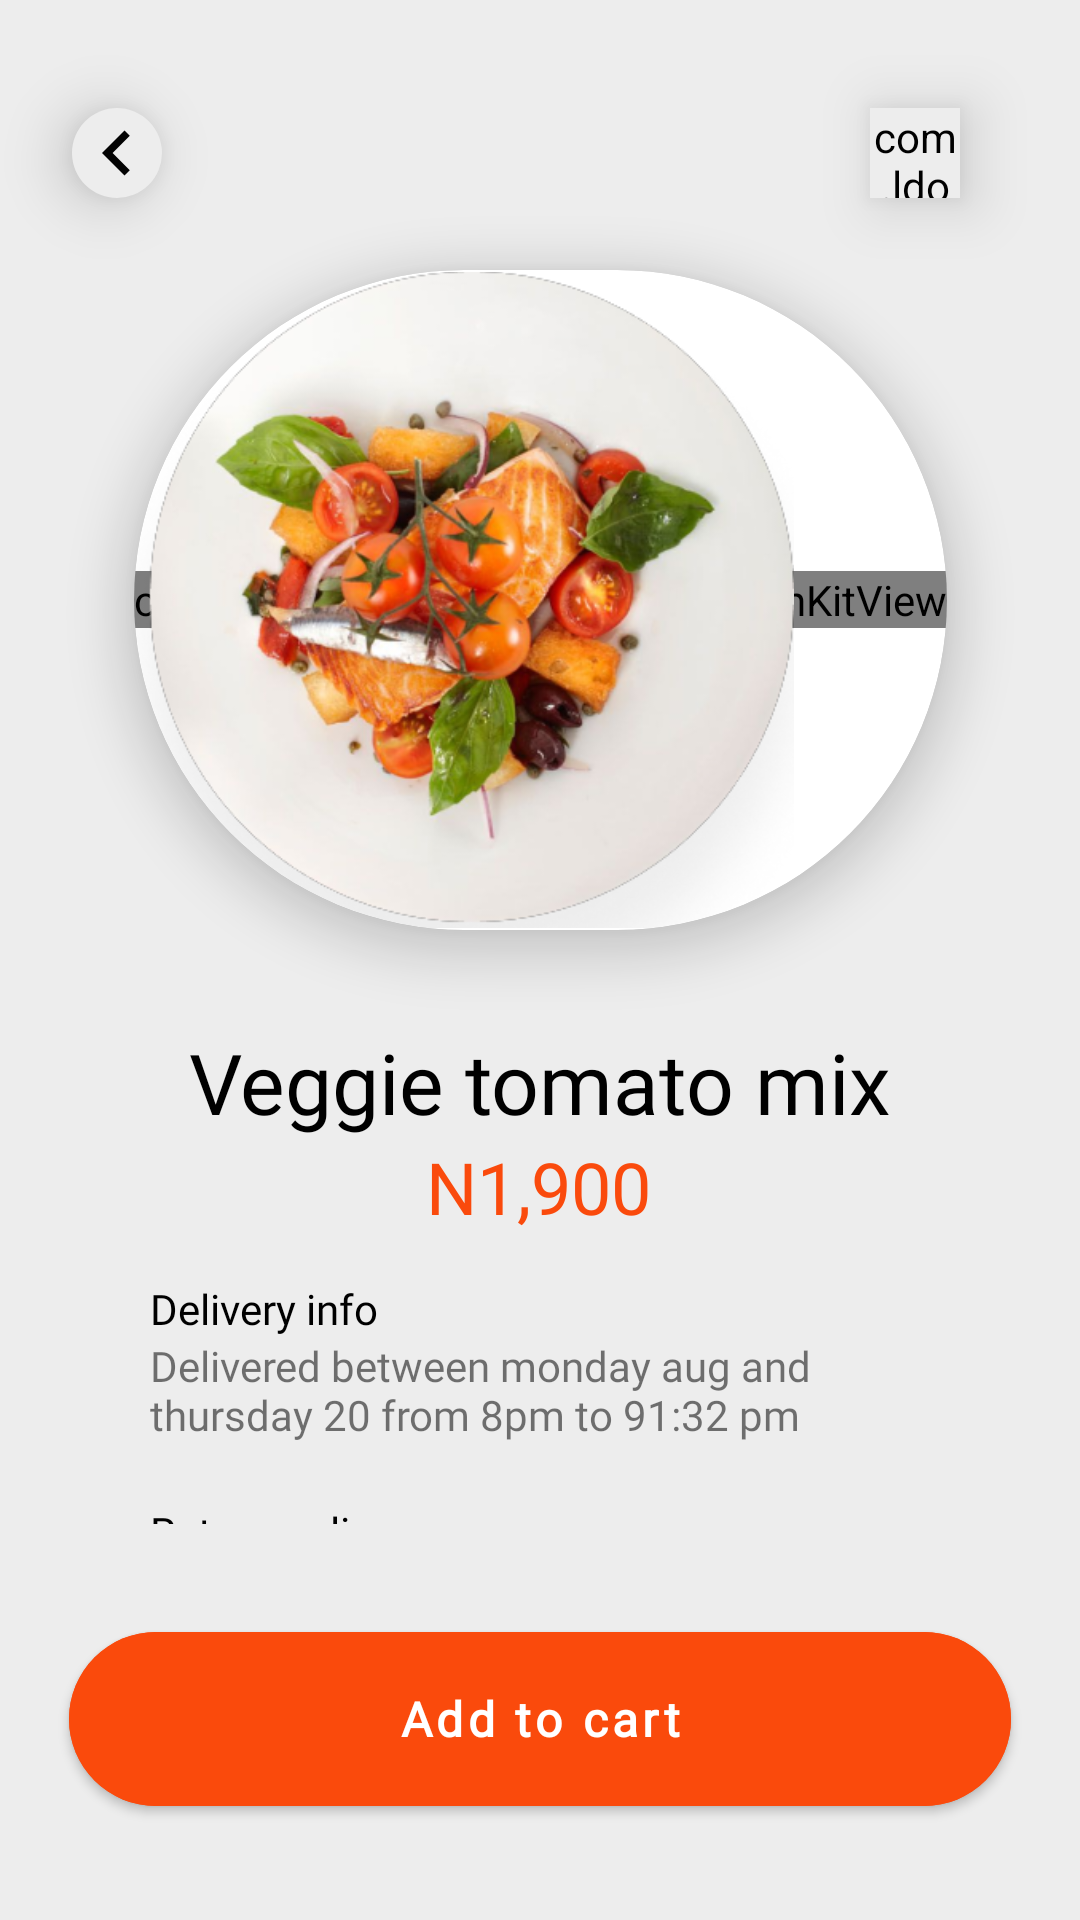

Icon click points for this 1080*1920 phone screenshot, format point (x, y):
back det: point (117, 153)
